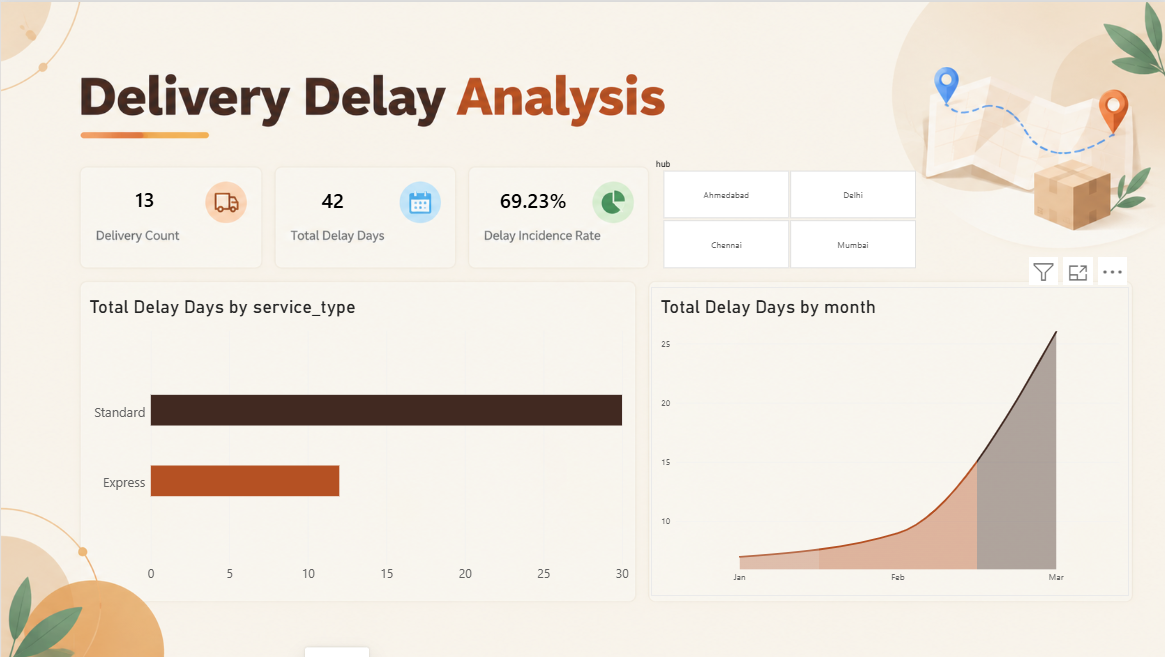

What the dashboard file says about the page in this screenshot:
{"tool":"powerbi","page":{"name":"Report","canvas":[1920,1080],"ordinal":1},"visuals":[{"type":"card","fields":{"Values":["Measures table.Delivery Count"]},"box":[130,257.5,215,137.5],"z":0},{"type":"card","fields":{"Values":["Measures table.Total Delay Days"]},"box":[427.5,230,236.7,193.3],"z":1},{"type":"card","fields":{"Values":["Measures table.Delay Incidence Rate"]},"box":[770,230,213.3,193.3],"z":2},{"type":"clusteredBarChart","fields":{"Category":["routes.service_type"],"Y":["Measures table.Total Delay Days"]},"box":[130,470,920,507.5],"z":3},{"type":"lineChart","fields":{"Category":["deliveries.month"],"Y":["Measures table.Total Delay Days"]},"box":[1070,470,787.5,507.5],"z":4},{"type":"slicer","fields":{"Values":["deliveries.hub"]},"box":[1070,257.5,455,182.5],"z":5}]}

Visuals, with their boxes in screenshot pixels (x1, y1, x2, y2), scaled from the page's 1920x1080 canvas onto the 1165x657 screenshot:
card - Measures table.Delivery Count: (left=79, top=157, right=209, bottom=240)
card - Measures table.Total Delay Days: (left=259, top=140, right=403, bottom=258)
card - Measures table.Delay Incidence Rate: (left=467, top=140, right=597, bottom=258)
clusteredBarChart - routes.service_type x Measures table.Total Delay Days: (left=79, top=286, right=637, bottom=595)
lineChart - deliveries.month x Measures table.Total Delay Days: (left=649, top=286, right=1127, bottom=595)
slicer - deliveries.hub: (left=649, top=157, right=925, bottom=268)
